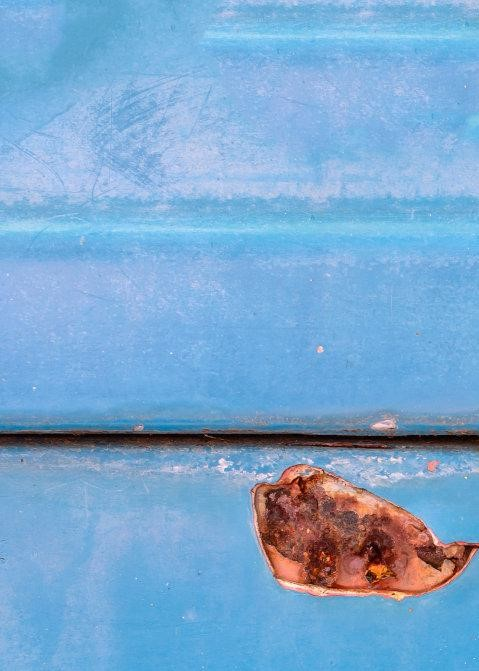Corrosion: (249, 463, 479, 602)
